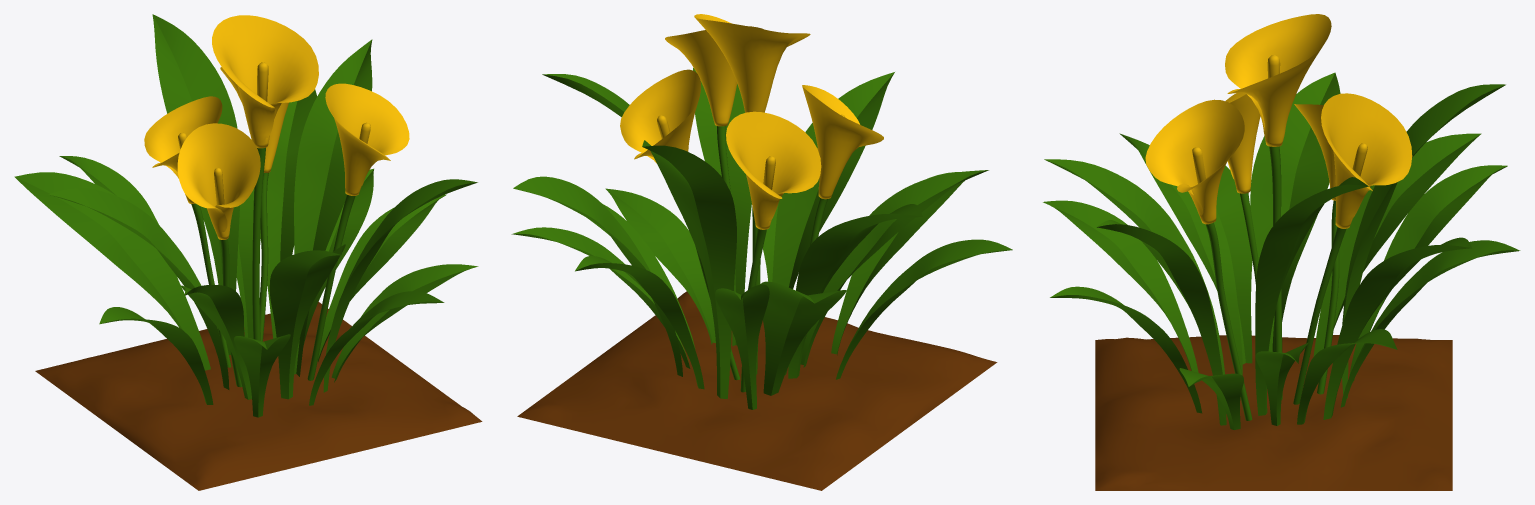
Rendered from yellow-calla.glb.
3 renders of one model, left to right at view 1: azimuth 30°, elevation 25°; view 2: azimuth 150°, elevation 25°; view 3: azimuth 270°, elevation 25°, orthographic. The views are drawn at different scales.
Visible parts, largest first — view 1: 4_nft_bloom; view 2: 4_nft_bloom; view 3: 4_nft_bloom.
Boxes of the visible parts, <box> form: 4_nft_bloom: <box>14,14,482,490</box>; 4_nft_bloom: <box>511,14,1012,490</box>; 4_nft_bloom: <box>1043,14,1520,490</box>.
Bounding box in the file's own units: 0.9841 × 0.8496 × 0.938.
